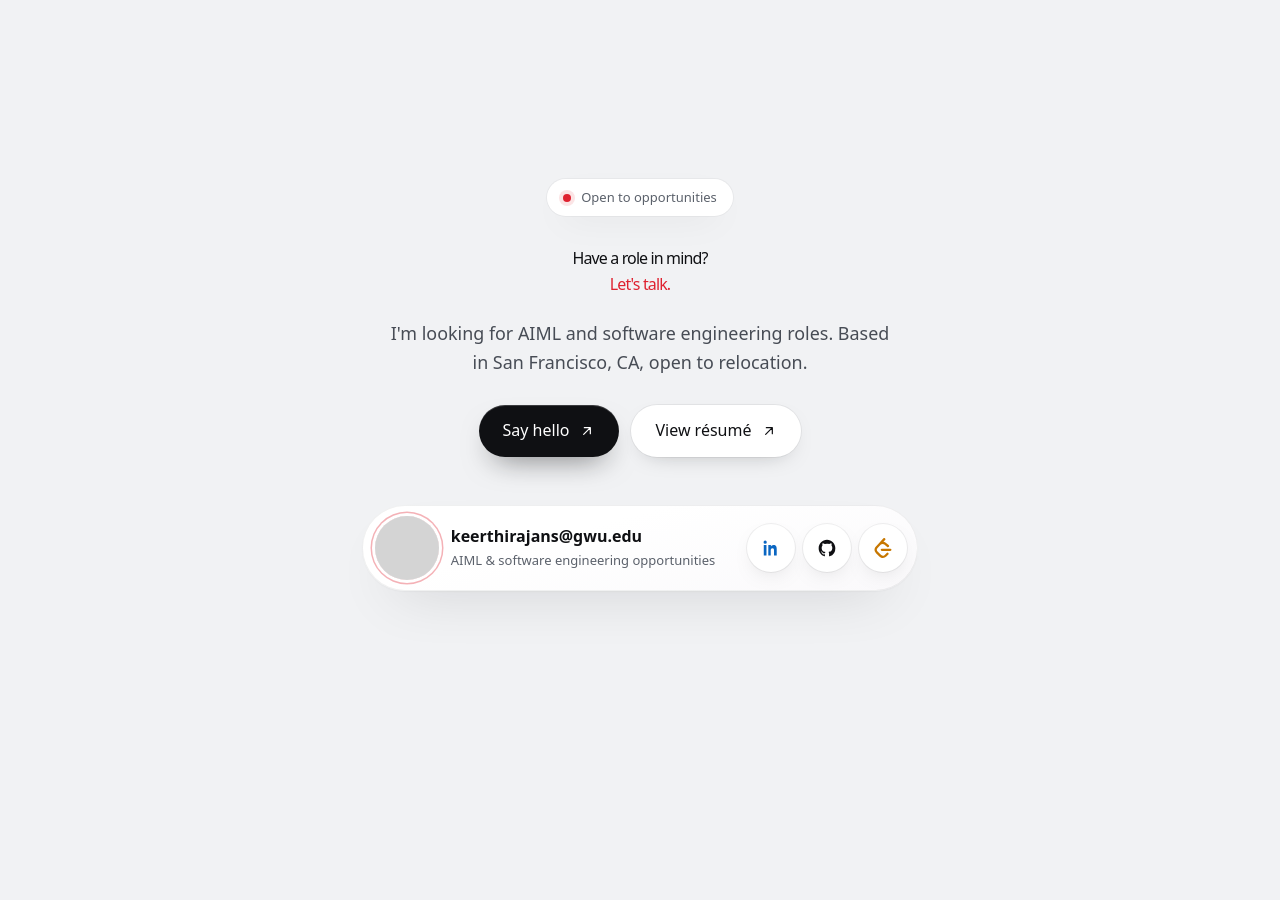
Test: contact section edges › returns focus to Say hello when the popup closes, and preloads on intent
The image size is (1280, 900).
Hover over the button "Say hello" at [549, 430], box [478,404,619,456]
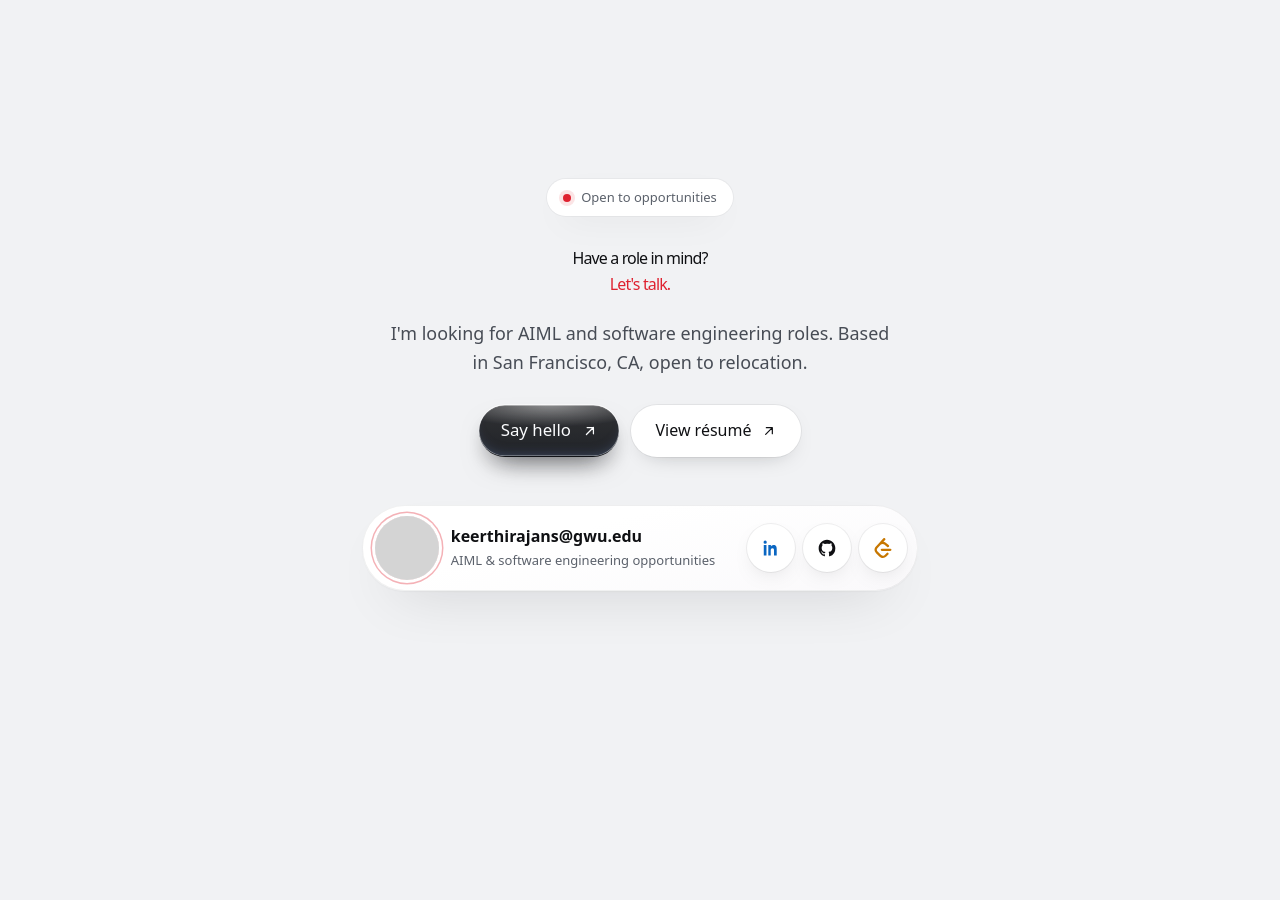
Click the button "Say hello" at [549, 430], box [478,404,619,456]
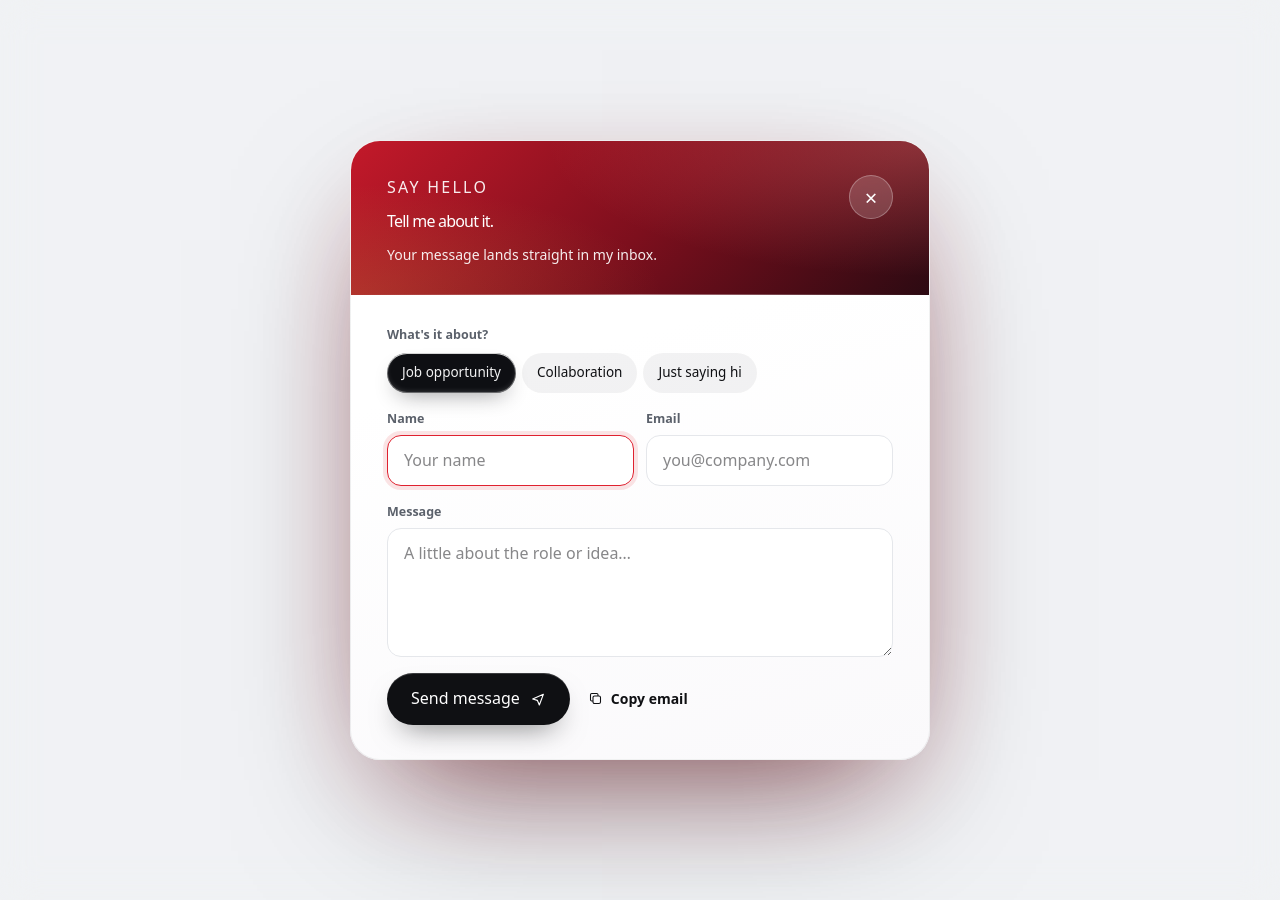
Click the button named "Close contact form" at [871, 197], box [849,175,893,219]
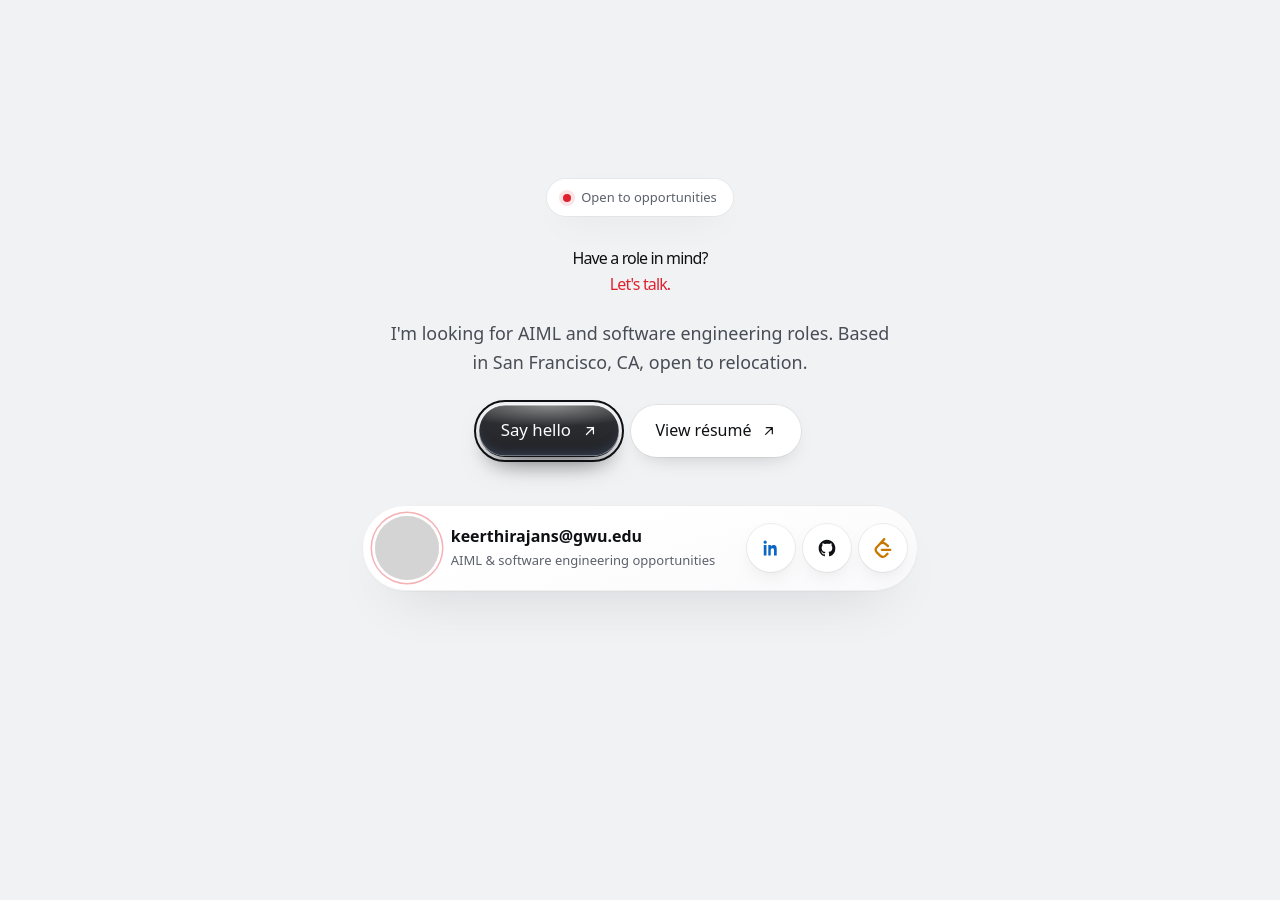
expect the dialog is gone: met
